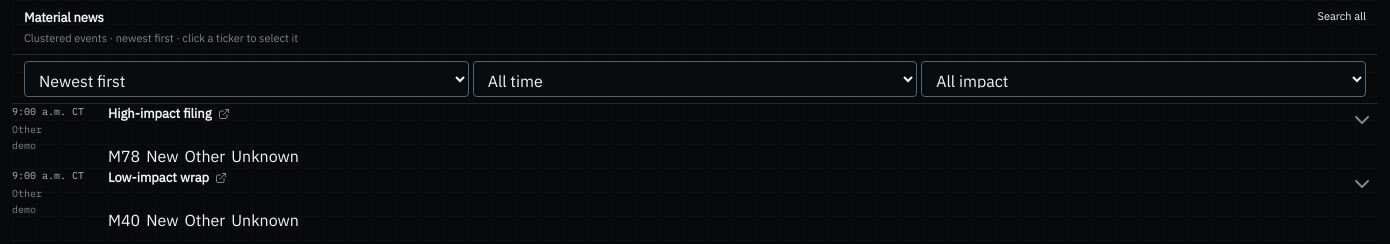
Test case: HeadlineFeed › filters to high-impact headlines when requested
Select "High M≥70" in the dropdown named "Filter by impact" at (1144, 78), box x1=921 y1=60 x2=1366 y2=96
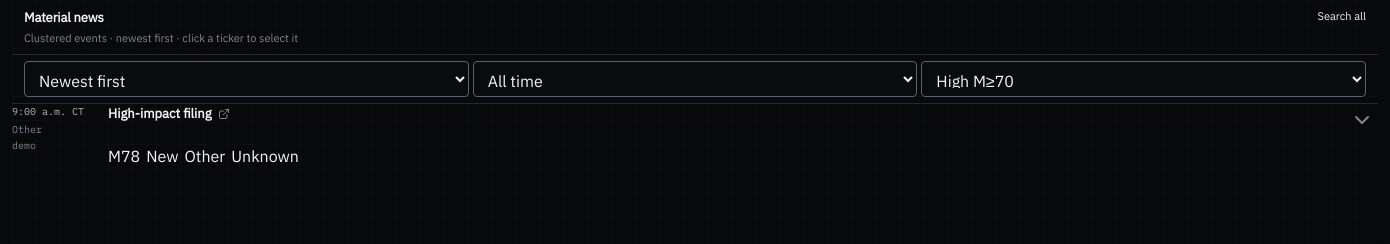
Check: the text "High-impact filing" is shown, box x1=108 y1=104 x2=212 y2=122
Check: the link "Low-impact wrap" is gone
